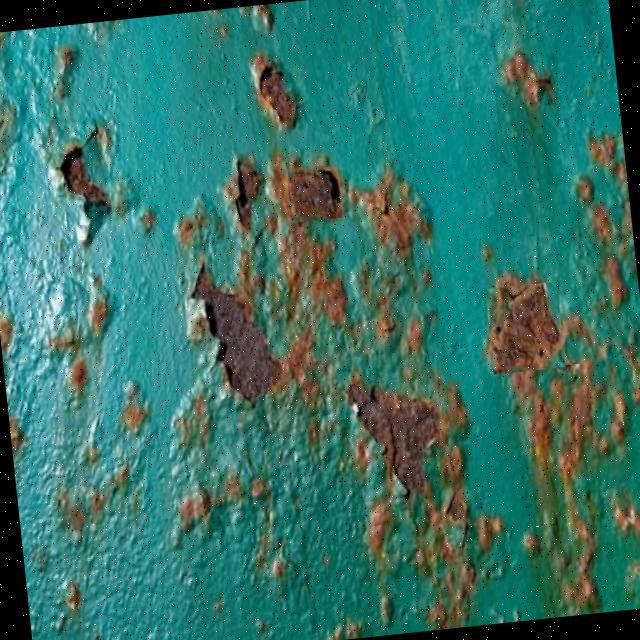Corrosion: (0, 0, 640, 640), (184, 254, 286, 407), (343, 366, 447, 504), (479, 266, 565, 376)
